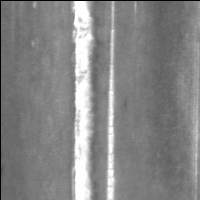scratches: (69, 1, 97, 200), (105, 1, 117, 200)
